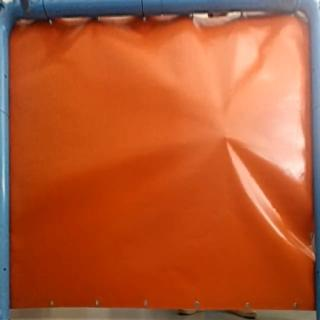Hit-hRxx: (218, 130, 236, 148)
